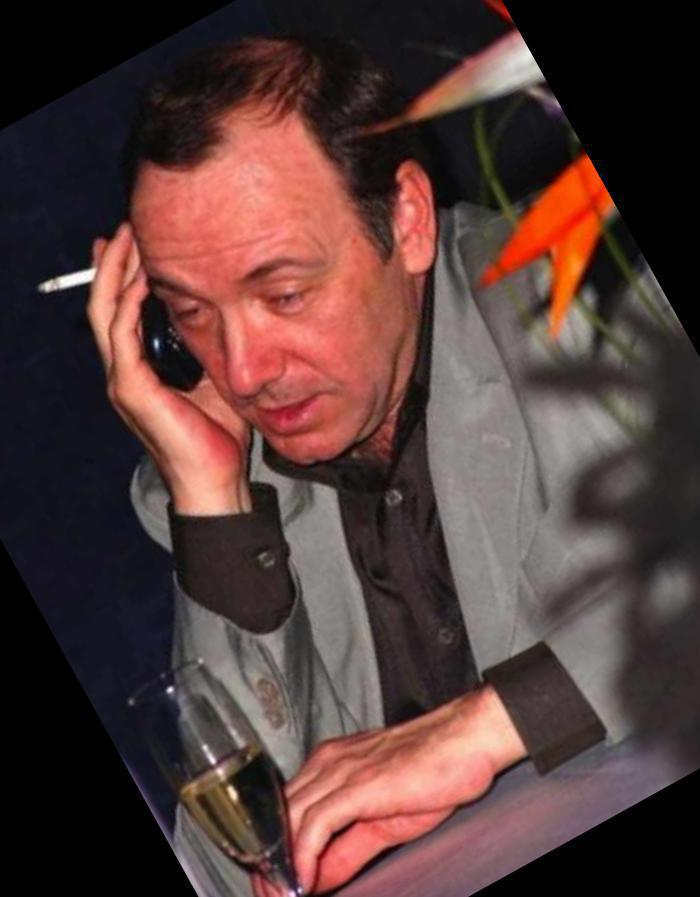Drunk: (143, 160, 397, 446)
